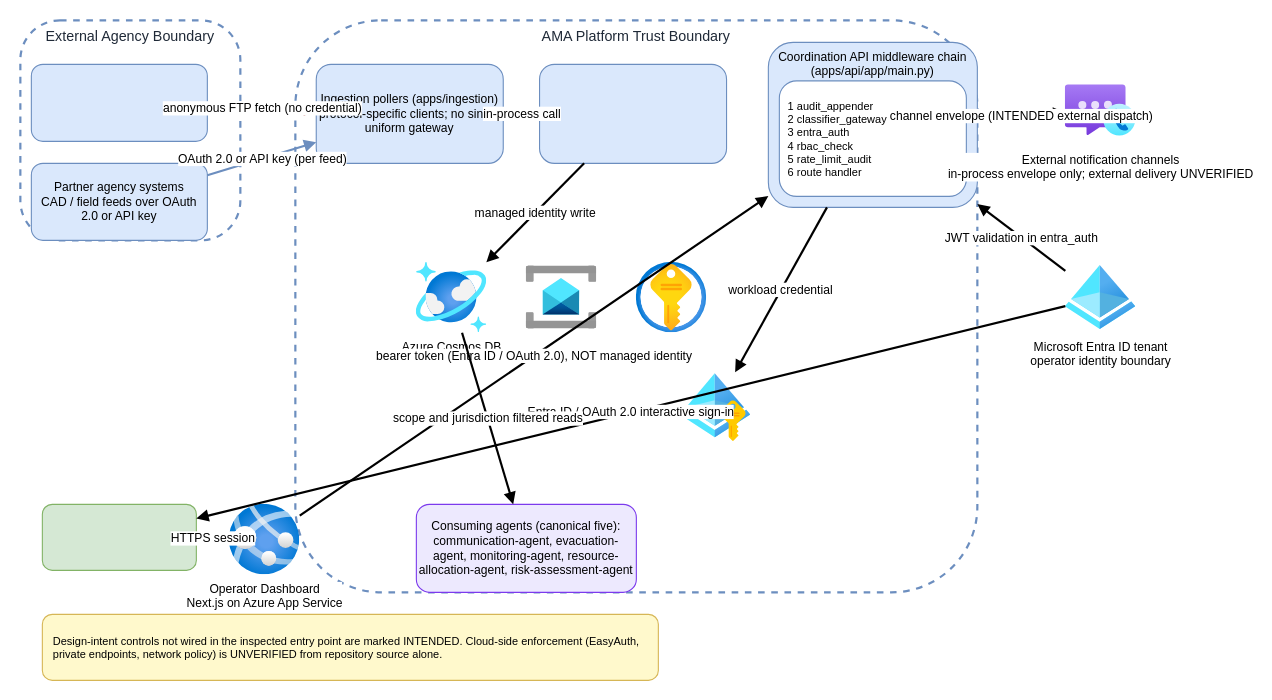
This 1272x700 diagram has some shape labels left out. The centre of each missing label's shape, as x and y in pixels:
"Azure Key Vault" goes at point (671, 297).
"Azure Service Bus" goes at point (561, 297).
"BoM warnings feed anonymous FTP (no credential)" goes at point (118, 102).
"Operator browser human identity" goes at point (118, 536).
"Signal normalisation and persistence workload managed identity to Cosmos DB" goes at point (632, 113).
"Workload managed identity" goes at point (715, 407).
